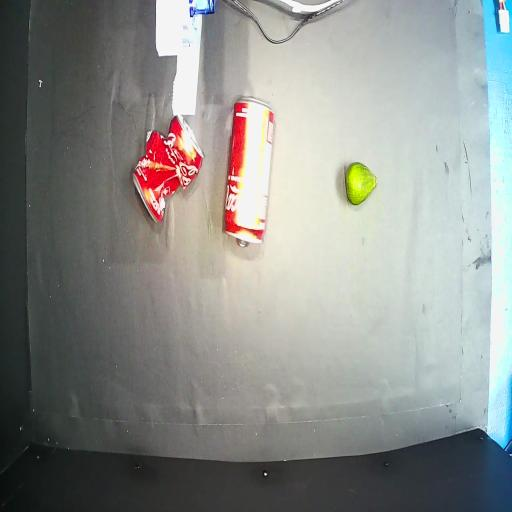higo: (345, 163, 377, 205)
lata: (225, 97, 274, 246)
lata_defectuoso: (133, 116, 203, 222)
